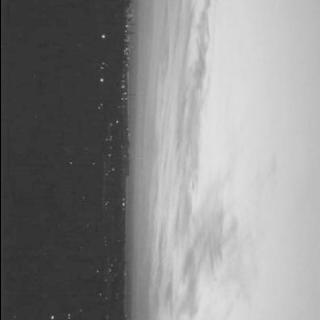Cirrostratus: (126, 0, 320, 320)
